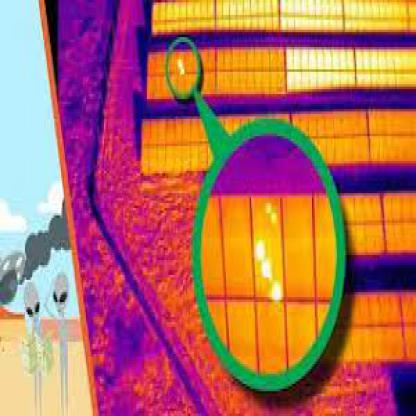Defects: (270, 280, 282, 302), (255, 240, 265, 262), (265, 265, 272, 285)
